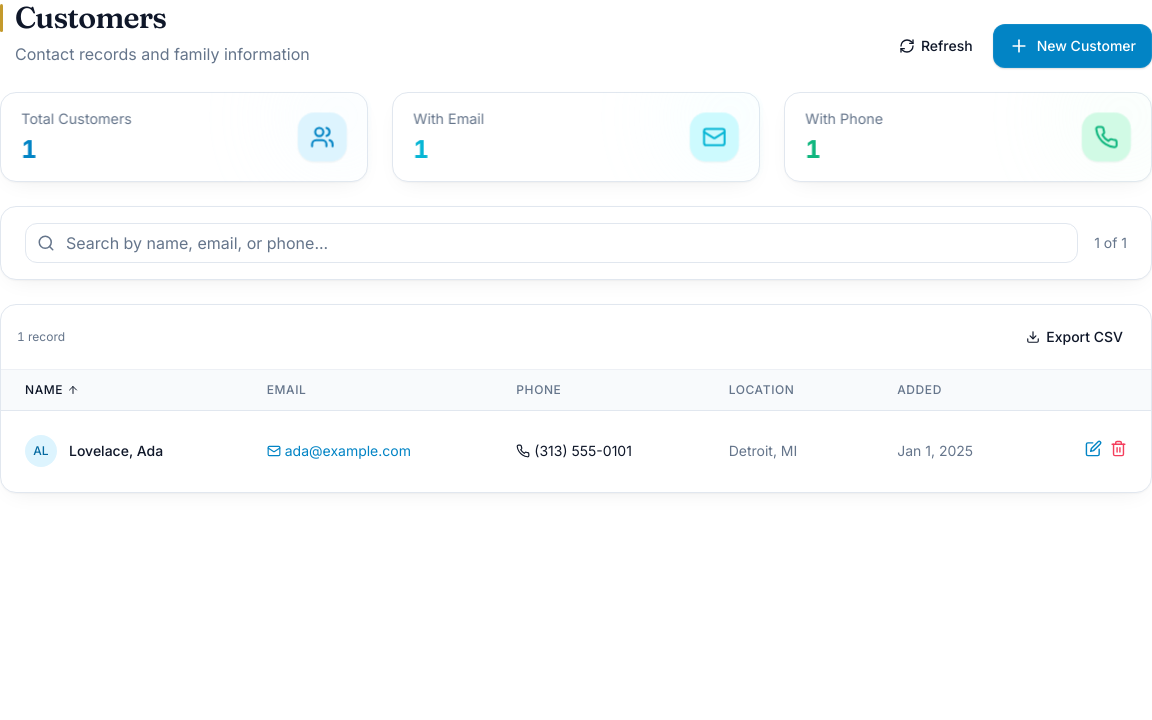
Test: Customers page — modal state between sessions › opens New clean after an edit was cancelled
What coordinates should you click on to do the following:
click the button named "Edit"
I would click on:
 (1094, 449)
Its box is [1085,427,1102,471].
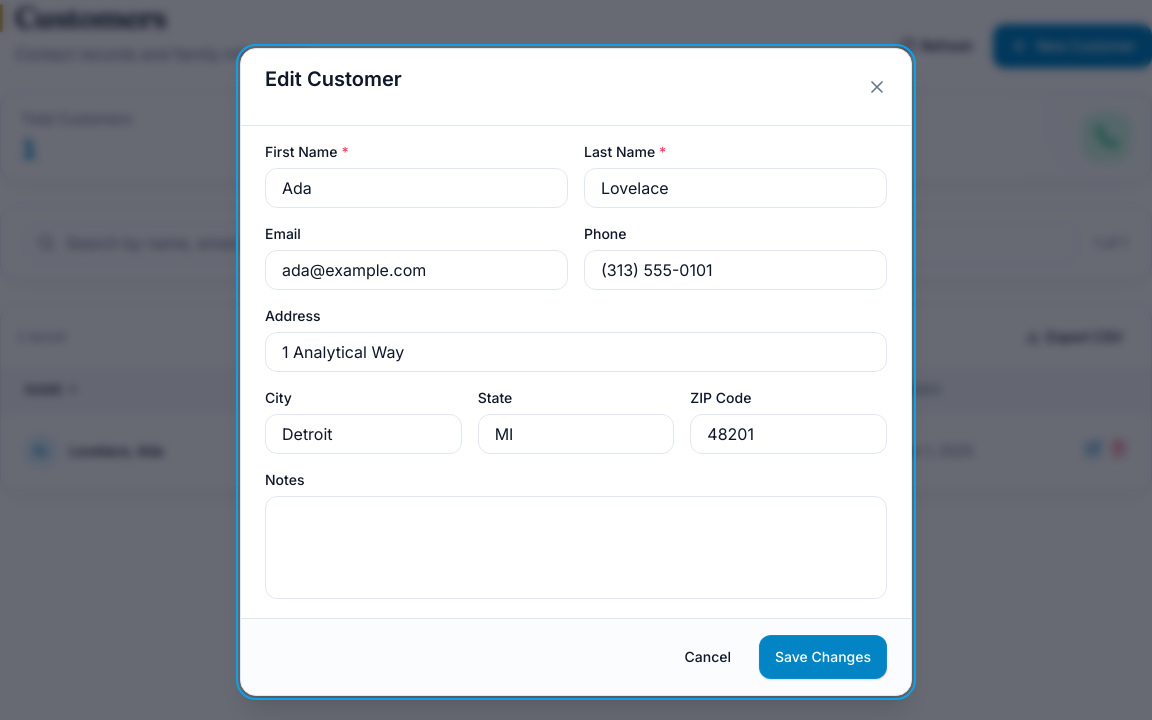
Now the dialog is shown, box [240,48,912,696]
Now the field labelled "First Name*" holds "Ada", box [265,168,568,208]
What coordinates should you click on to do the following:
click the button "Cancel"
I would click on:
 (708, 657)
Its box is [668,635,747,679].
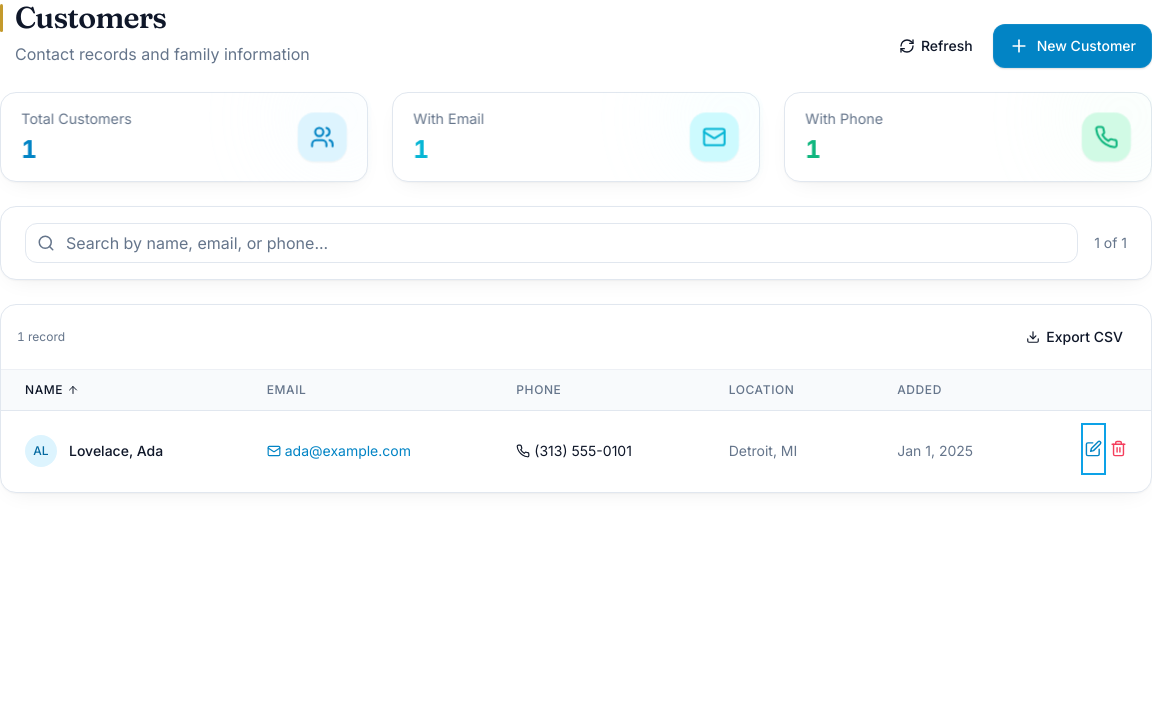
Now the dialog is gone
What coordinates should you click on to do the following:
click the button "New Customer"
I would click on:
 (1072, 46)
Its box is [993,24,1151,68].
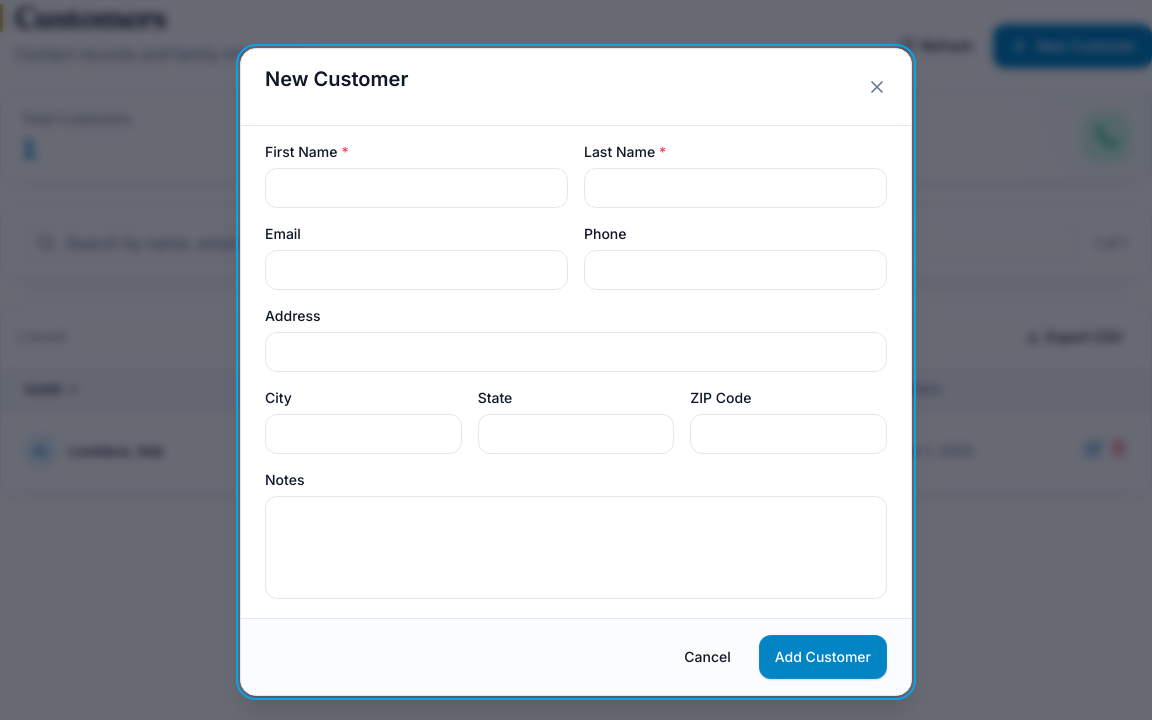
Now the dialog is shown, box [240,48,912,696]
Now the field labelled "First Name*" is empty, box [265,168,568,208]
